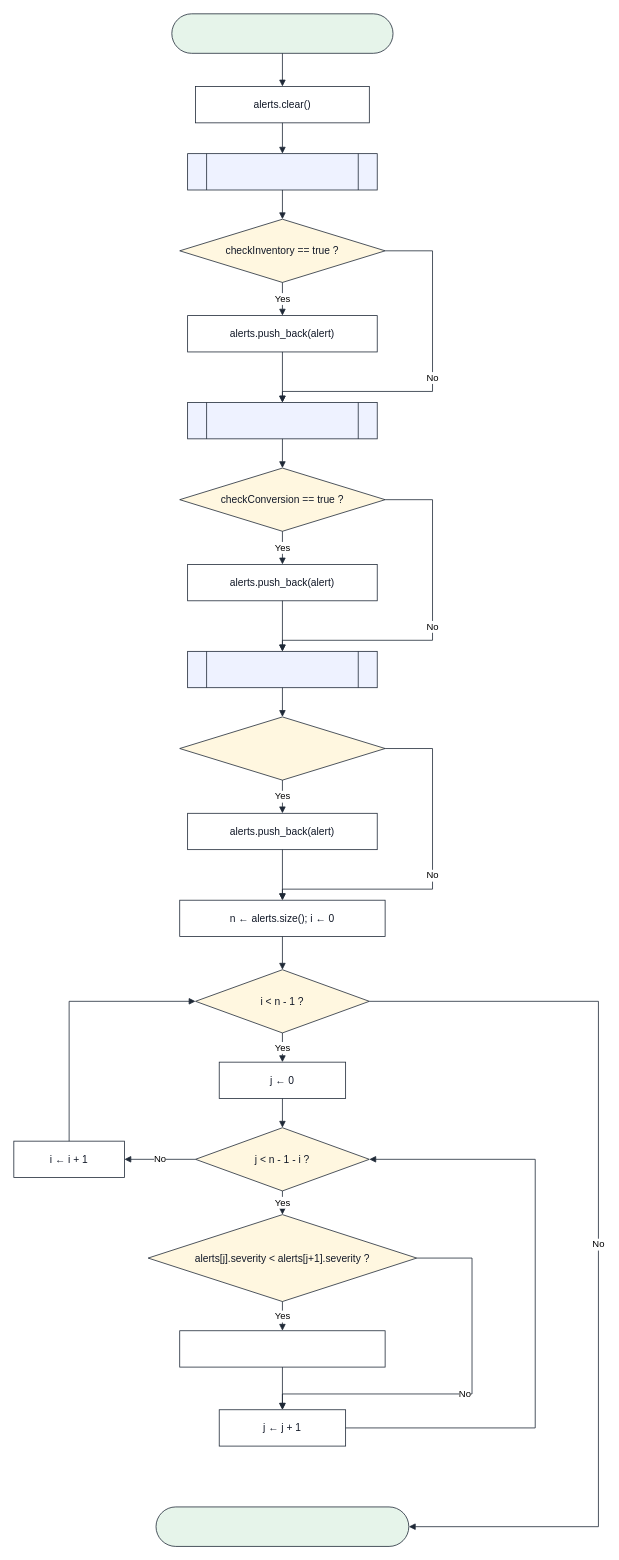
Image size: 619x1560. Some labels were removed from this diagram. Here are the shapes that lost their labels. From the top down, the centre of each, then its label:
point (282, 33): Start: evaluateDay(d, alerts)
point (282, 171): checkInventory(d, alert)
point (282, 420): checkConversion(d, alert)
point (282, 669): checkTarget(d, alert)
point (282, 748): checkTarget == true ?
point (282, 1348): swap(alerts[j], alerts[j+1])
point (282, 1526): End: alerts đã sắp xếp (HIGH trước MEDIUM)
